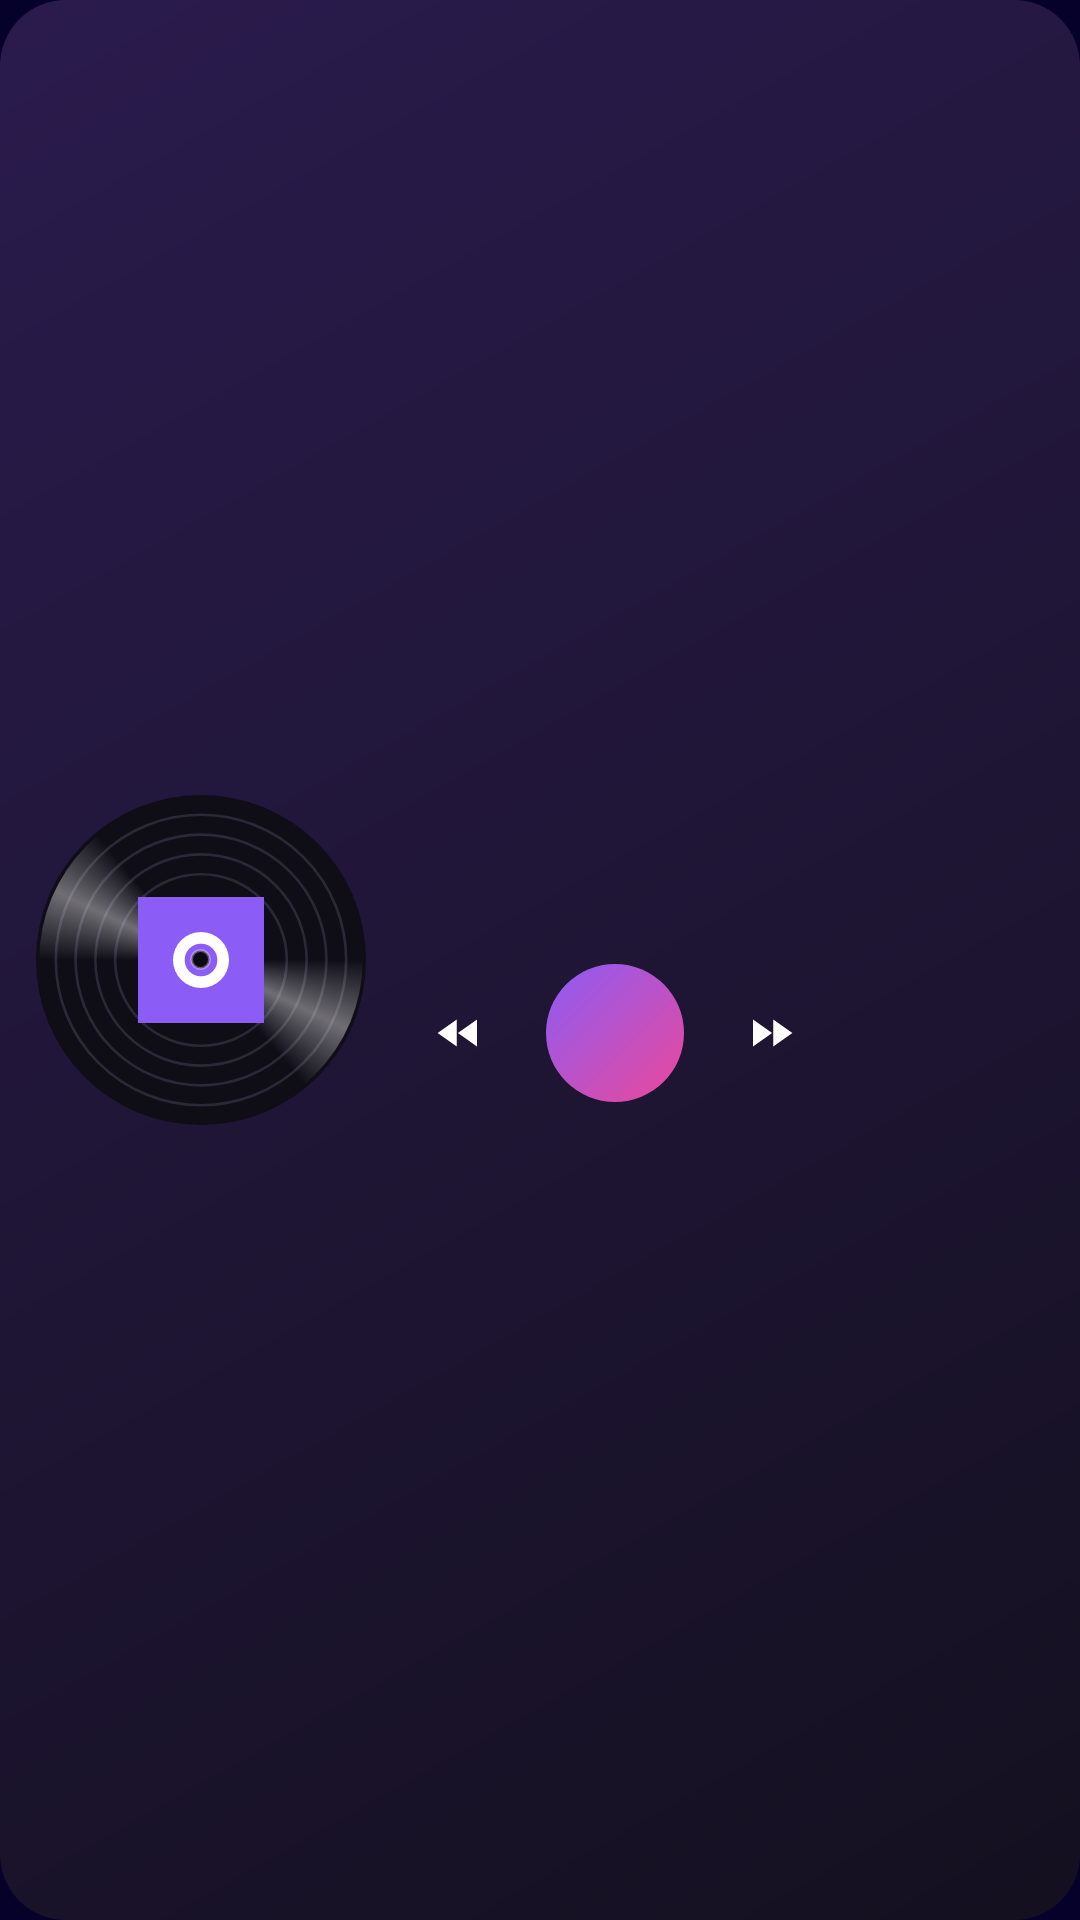

Named icons in this screenshot (1080 × 1920) and their bounding boxes, (x1, y1, x2, y2):
vinyl: (36, 795, 366, 1125)
